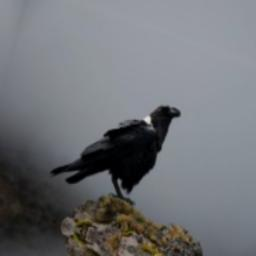Crow: (45, 65, 184, 220)
